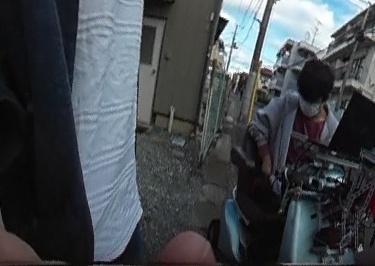person: (253, 56, 335, 185)
